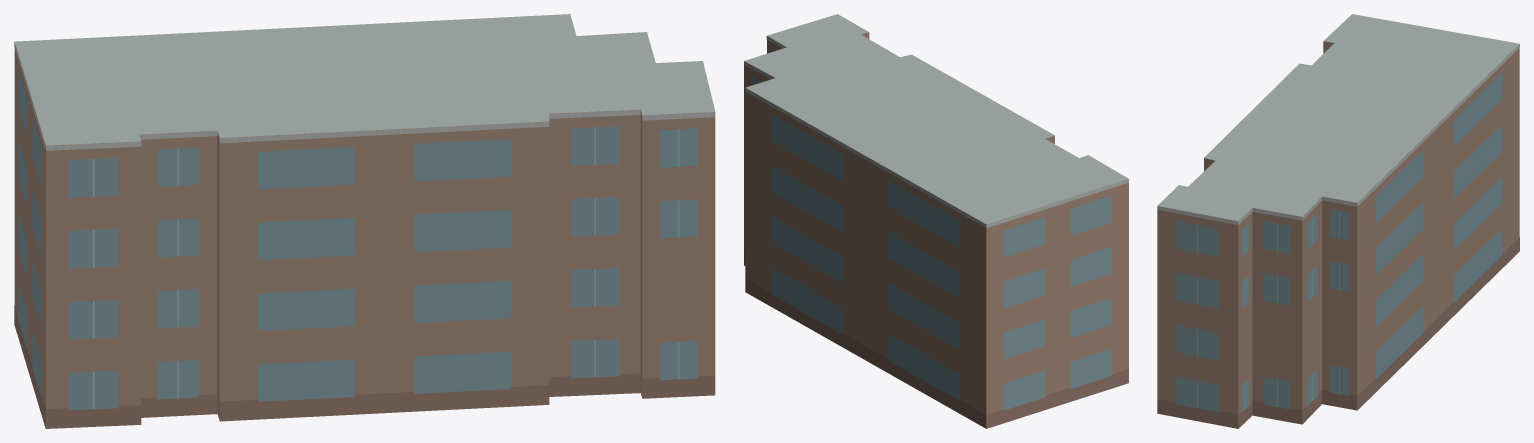
File: survey-upis-32530317.glb
The picture shows the model from 3 angles, left to right: view 1: azimuth 30°, elevation 25°; view 2: azimuth 150°, elevation 25°; view 3: azimuth 270°, elevation 25°; orthographic projection. The views are drawn at different scales.
Visible parts, largest first — view 1: survey-upis-32530317.tmp; view 2: survey-upis-32530317.tmp; view 3: survey-upis-32530317.tmp.
Part boxes in pixels (x1,y1,x2,y2): survey-upis-32530317.tmp: [14, 14, 715, 428]; survey-upis-32530317.tmp: [744, 14, 1128, 428]; survey-upis-32530317.tmp: [1157, 14, 1519, 428].
Size of the model in its own units: 27.61 by 12.9 by 20.42.
